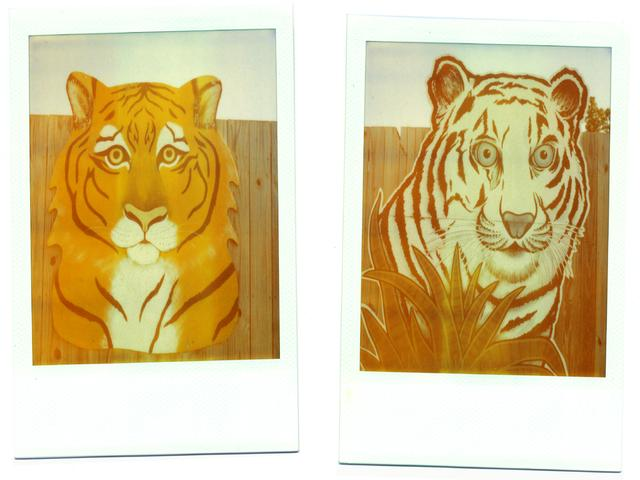tiger: (38, 35, 272, 353), (392, 38, 603, 364)
